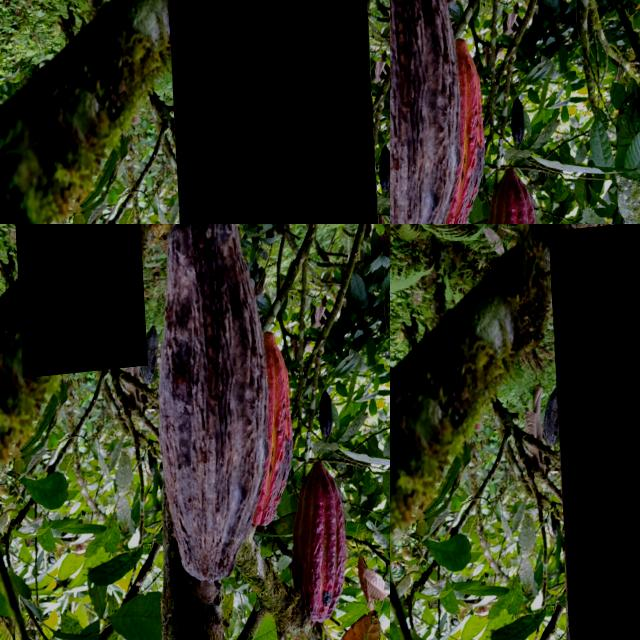Fitoftora: (162, 0, 382, 224), (547, 229, 640, 640), (10, 224, 144, 381), (540, 395, 560, 453)
Sana: (95, 224, 222, 423), (0, 276, 14, 457)
